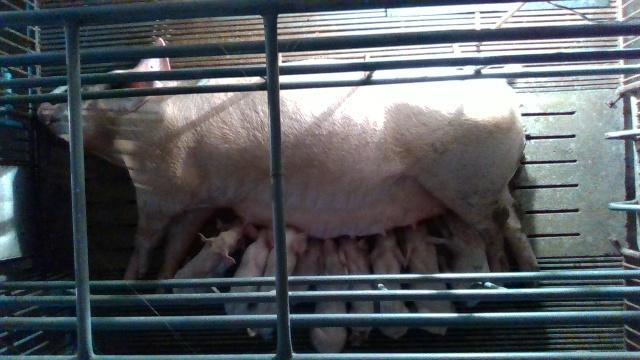piglet: (402, 222, 454, 335), (257, 227, 308, 341), (370, 233, 410, 339), (311, 239, 348, 353), (437, 213, 491, 290), (172, 230, 235, 294), (227, 223, 267, 316), (338, 237, 375, 332)
sow-sleep-lactate: (38, 36, 540, 288)
